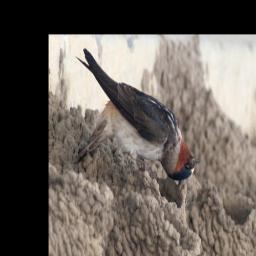Swallow: (72, 47, 202, 182)
